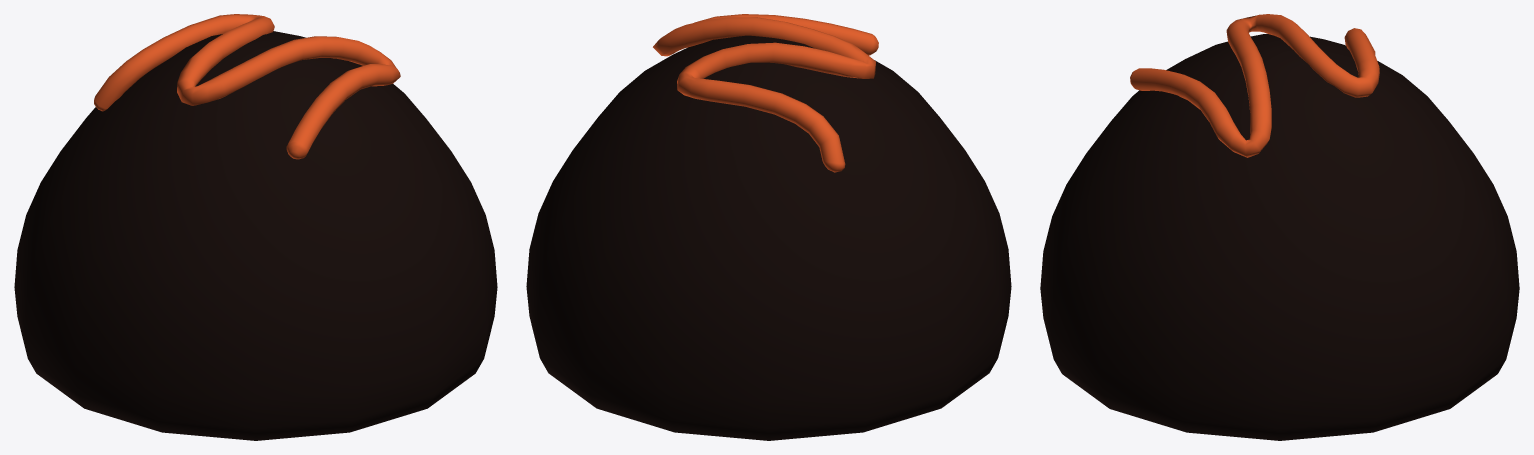
File: SM_Praline.fbx
The picture shows the model from 3 angles, left to right: view 1: azimuth 30°, elevation 25°; view 2: azimuth 150°, elevation 25°; view 3: azimuth 270°, elevation 25°; orthographic projection.
Visible parts, largest first — view 1: SM_Praline; view 2: SM_Praline; view 3: SM_Praline.
Boxes of the visible parts, x1,y1,x2,y2 form: SM_Praline: (14,14,497,440); SM_Praline: (526,14,1011,440); SM_Praline: (1040,14,1519,440).
Bounding box in the file's own units: 6.83 × 5 × 6.87.
